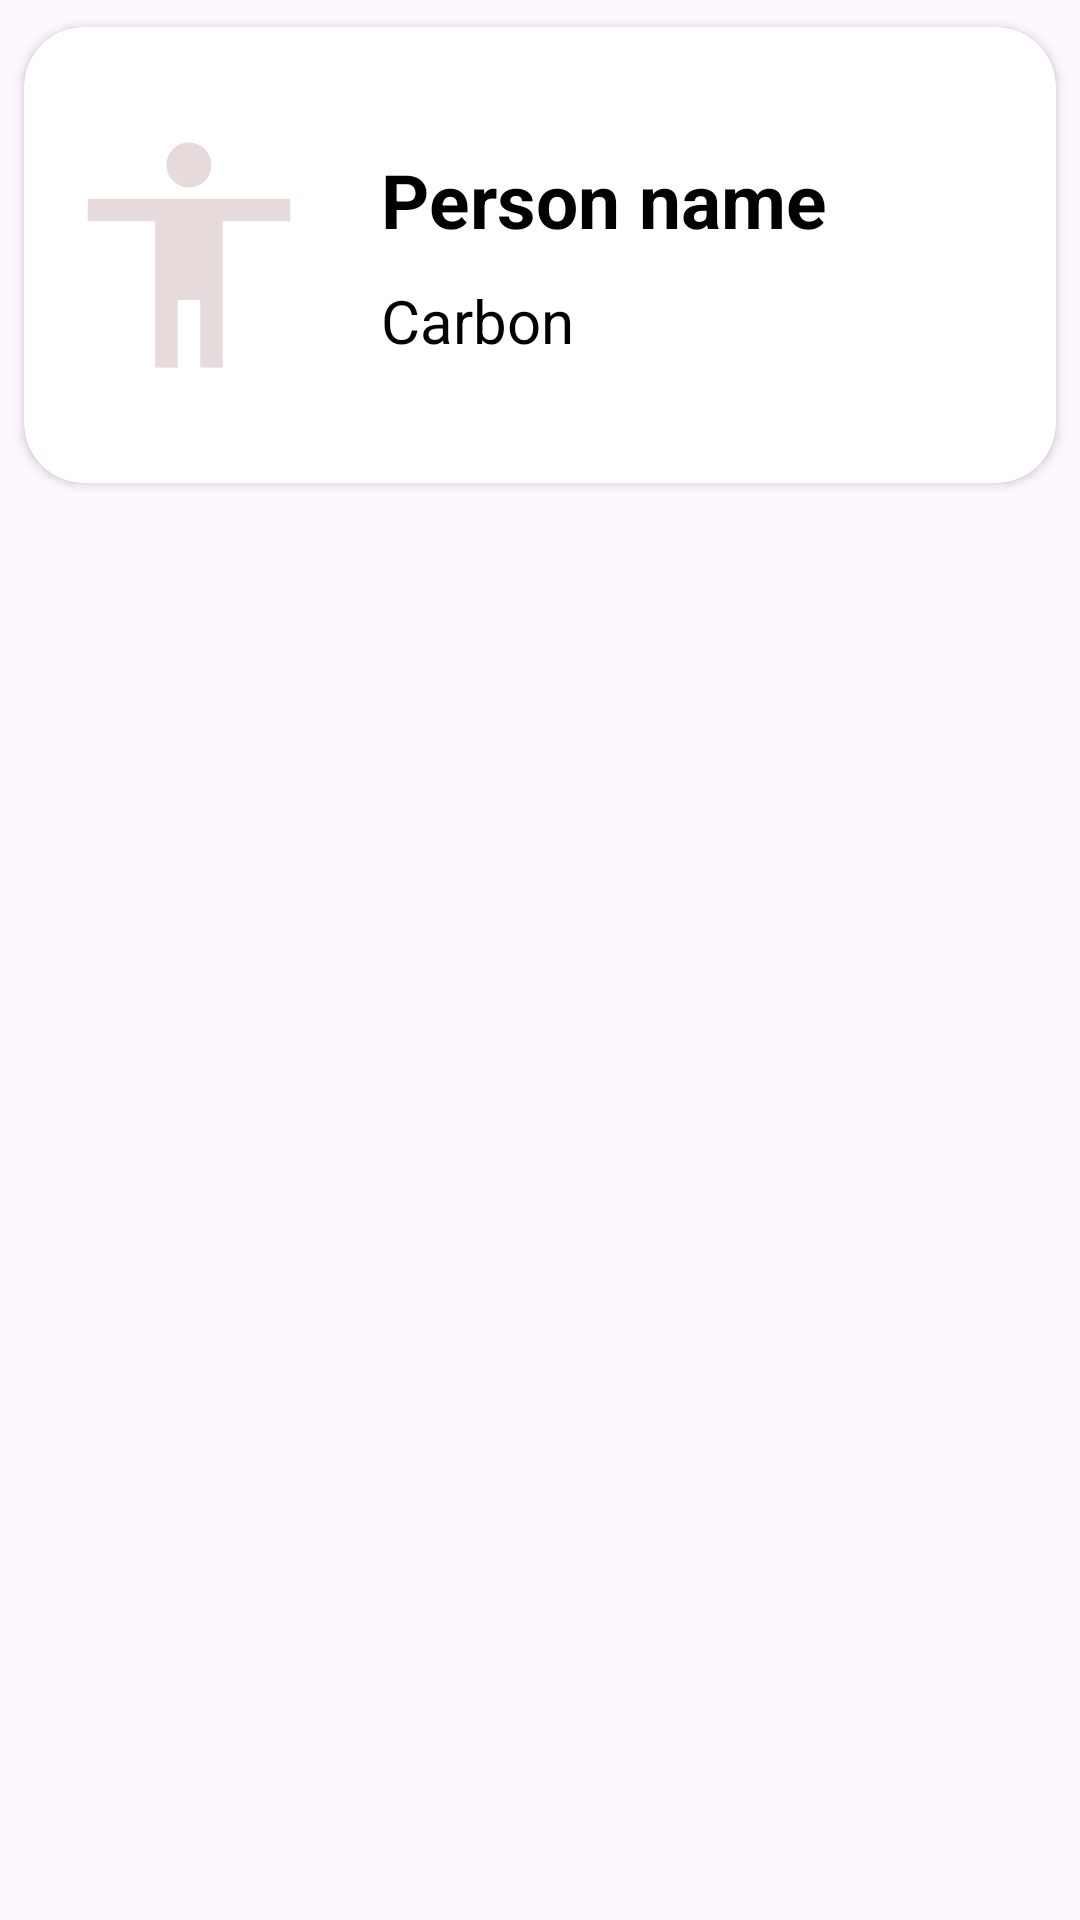

Icons on this 1080x1920 Android screen, each with the point to tap as (x,y):
accessibility: (189,255)
